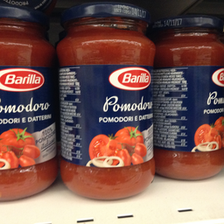tomato_sauce: (54, 4, 156, 200), (154, 13, 224, 180), (1, 5, 57, 203)
